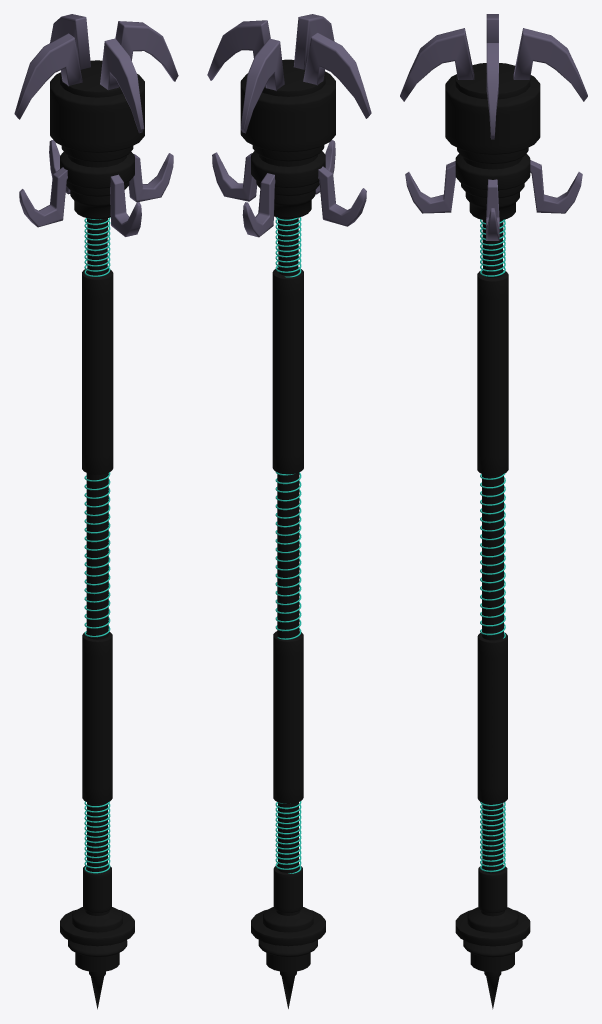
The model's file is ZappyStickV5_low.FBX.
3 views of the same model, side by side, from view 1: azimuth 30°, elevation 25°; view 2: azimuth 150°, elevation 25°; view 3: azimuth 270°, elevation 25° (orthographic).
Parts seen in each view (by area): view 1: ZappyStickV5_low; view 2: ZappyStickV5_low; view 3: ZappyStickV5_low.
Part boxes in pixels (x1,y1,x2,y2): ZappyStickV5_low: [14, 14, 178, 1009]; ZappyStickV5_low: [207, 14, 371, 1008]; ZappyStickV5_low: [400, 14, 587, 1009].
Bounding box in the file's own units: 37.27 × 215 × 37.44.
